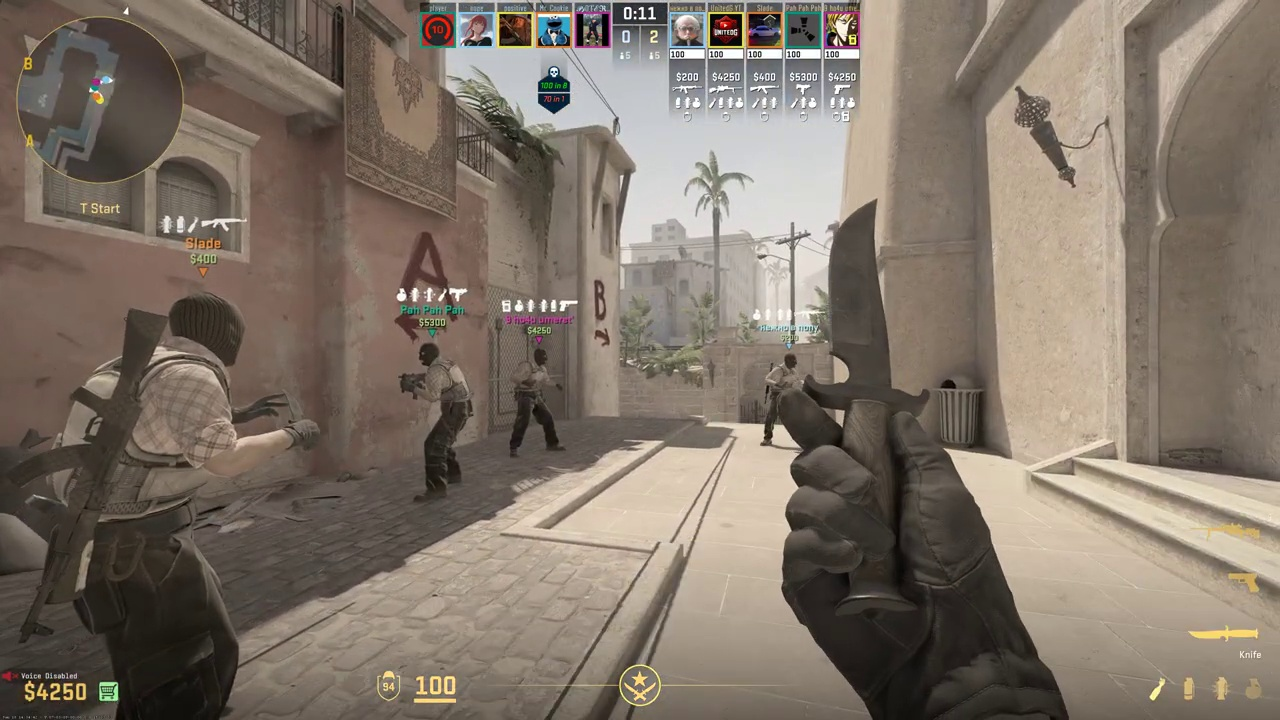Terrorist: (73, 291, 252, 720), (410, 343, 469, 502), (509, 349, 560, 457), (764, 353, 801, 447)
